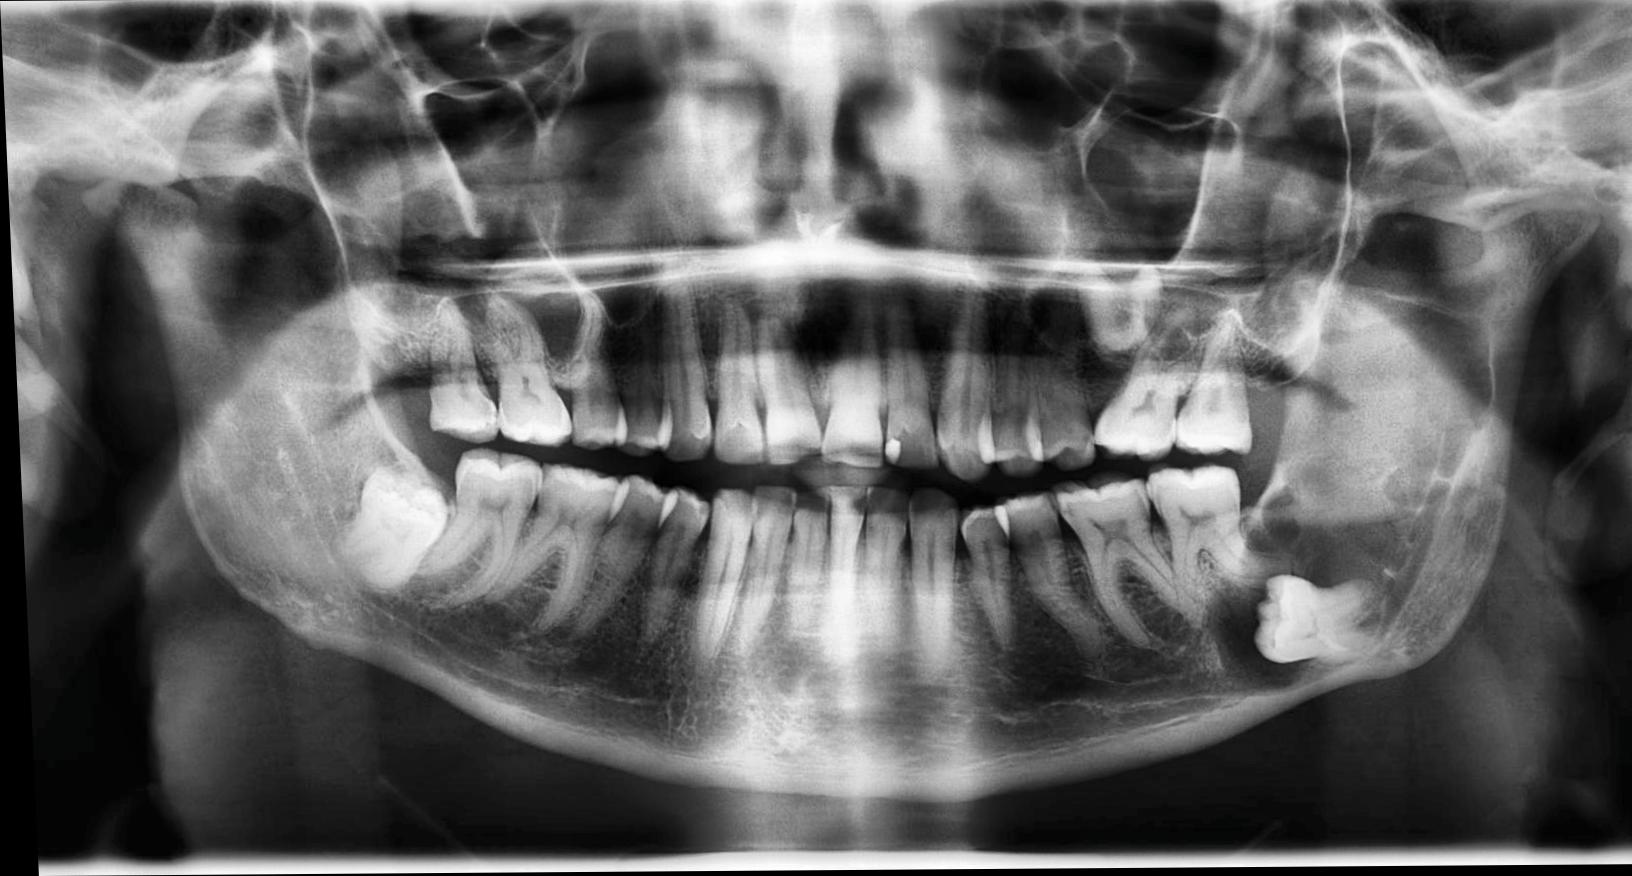okc: (1185, 277, 1502, 696)
